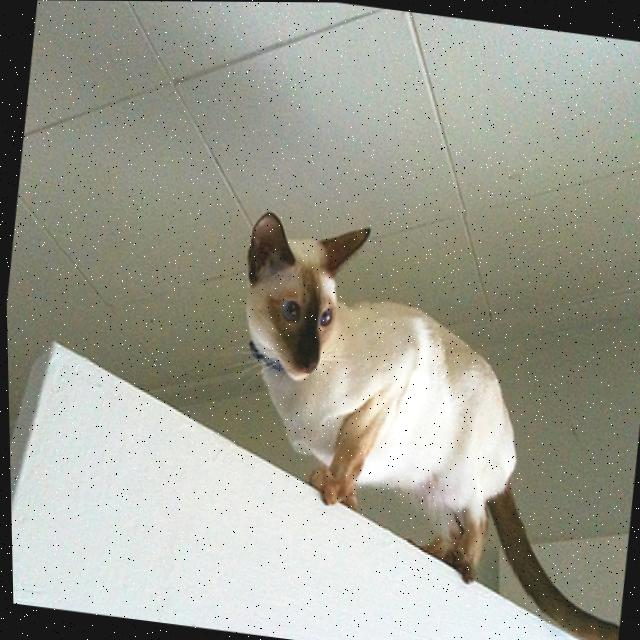Siamese: (195, 197, 640, 640)
